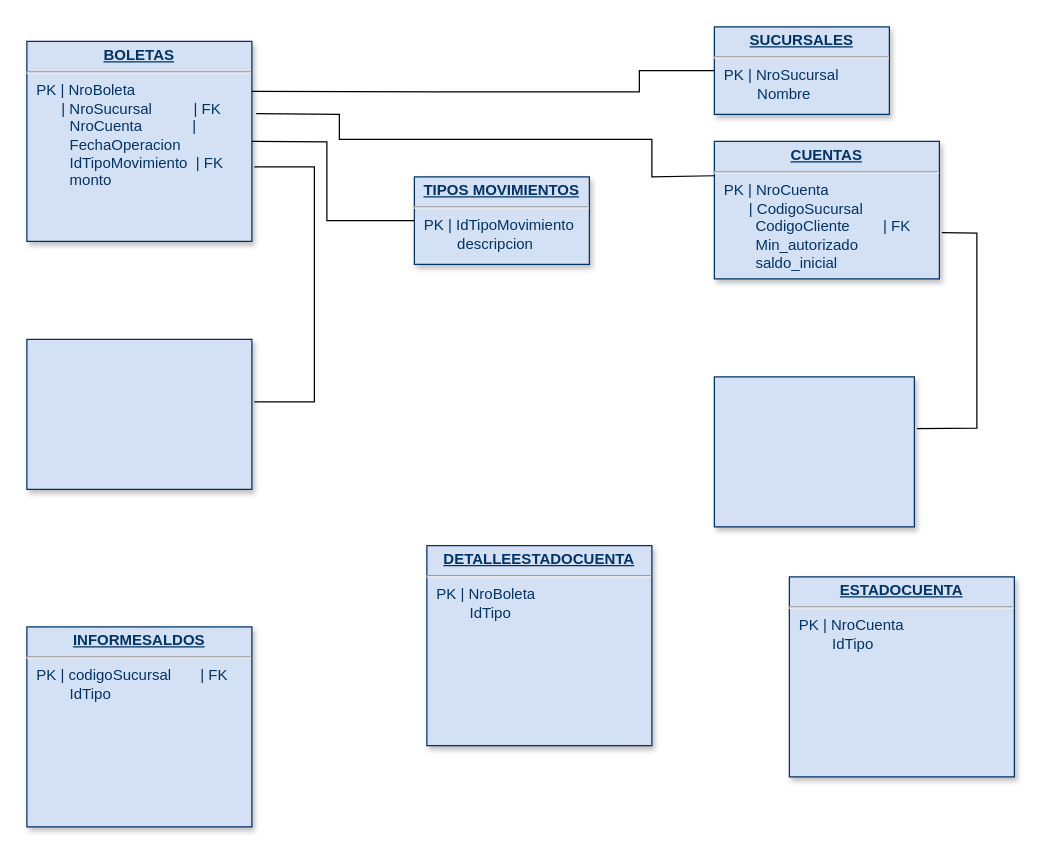
Some shapes in this 1044 by 858 pixel diagram are drawn without their labels. The shapes that lost their labels are listed below. From the top down, each one's centre as x and y in pixels, then its label:
At pixel 140 415: "DETALLEBOLETAS PK | NroSucursal | FK | NroBoleta | orden tipo | FK importe".
At pixel 815 453: "CLIENTES PK | CodigoCliente nombreCliente domicilioCalle alturaCalle telefono".
